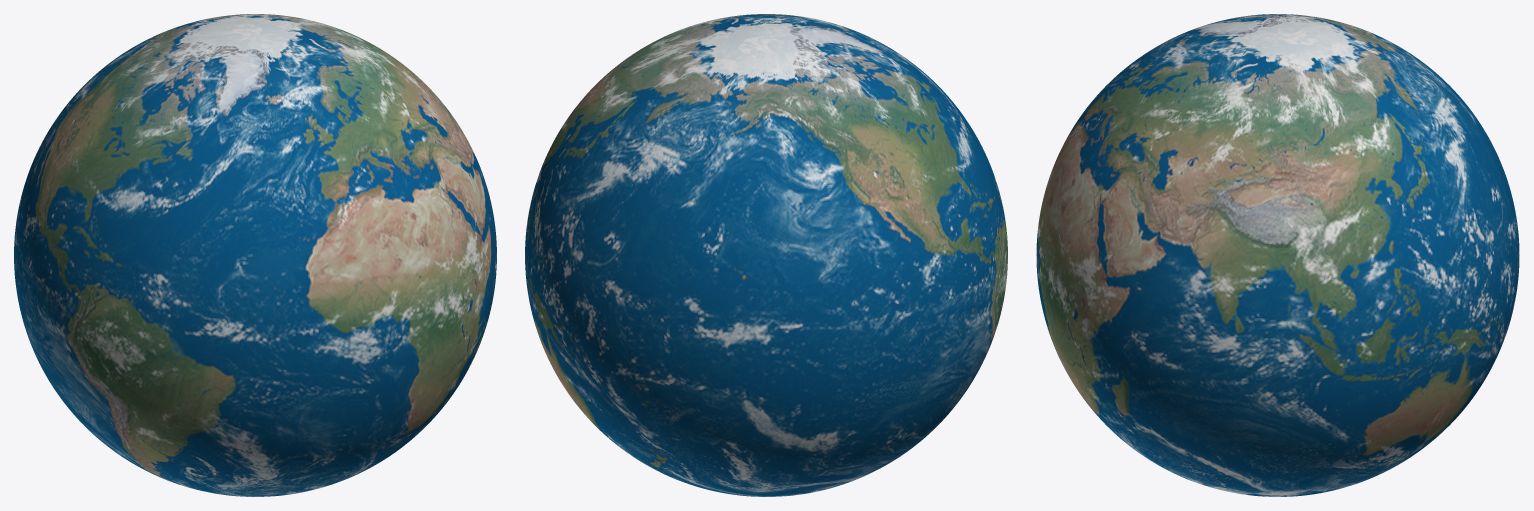
The model's file is Earth.glb.
The picture shows the model from 3 angles, left to right: view 1: azimuth 30°, elevation 25°; view 2: azimuth 150°, elevation 25°; view 3: azimuth 270°, elevation 25°; orthographic projection.
Parts seen in each view (by area): view 1: Sphere; view 2: Sphere; view 3: Sphere.
Boxes of the visible parts, x1,y1,x2,y2 form: Sphere: [14, 14, 496, 496]; Sphere: [525, 14, 1007, 496]; Sphere: [1036, 14, 1519, 496].
Bounding box in the file's own units: 1 × 1 × 1.
Materials: 1 (1 with a texture image).
